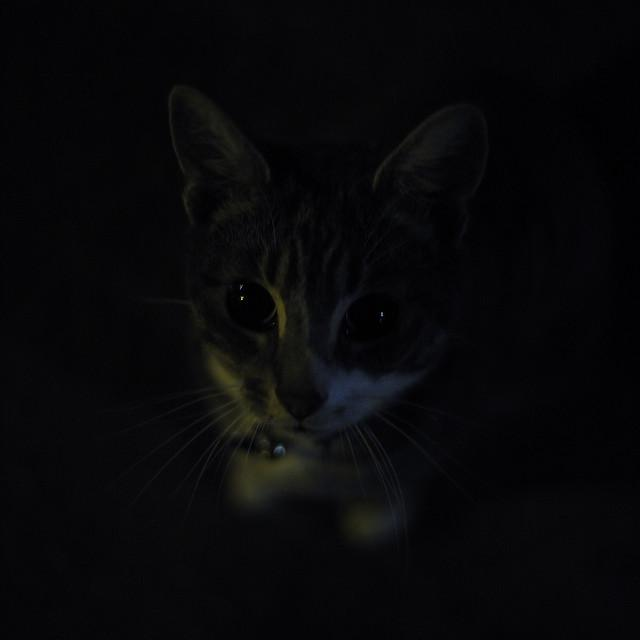Cat: (153, 57, 494, 577)
